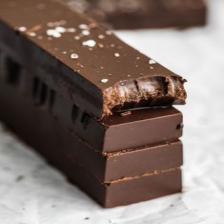brown: (1, 0, 187, 208), (61, 0, 206, 29)
